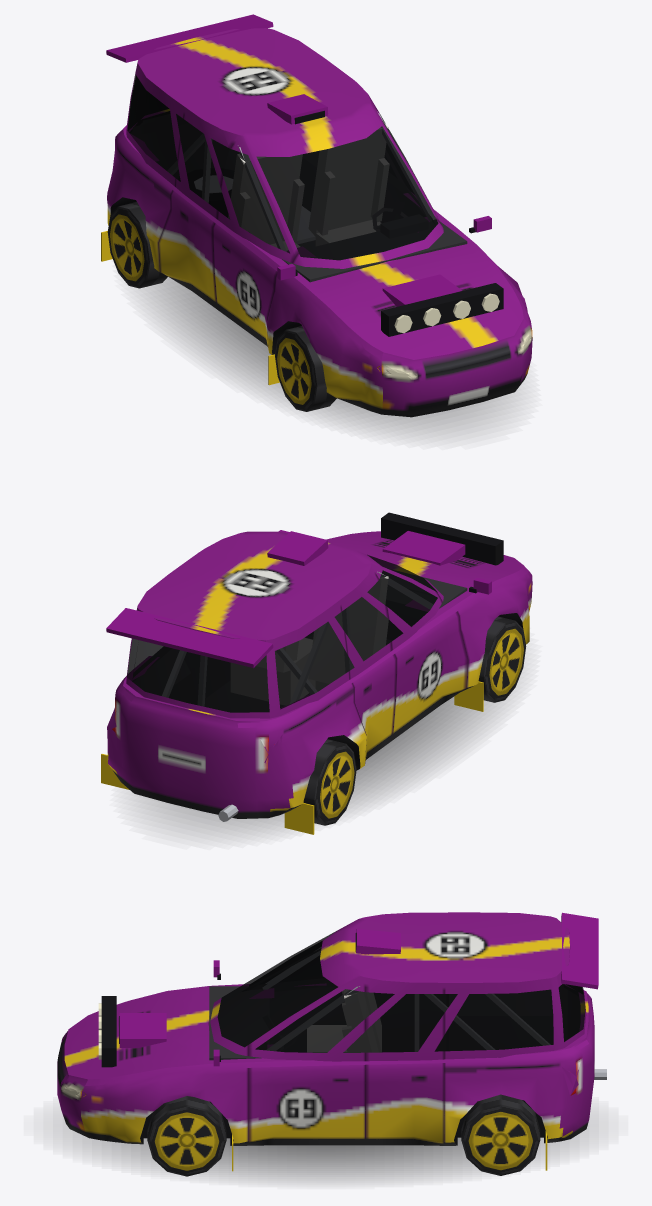
Rendered from rabanada.glb.
3 renders of one model, top to bottom at view 1: azimuth 30°, elevation 25°; view 2: azimuth 150°, elevation 25°; view 3: azimuth 270°, elevation 25°, orthographic. The views are drawn at different scales.
Parts seen in each view (by area): view 1: Carroceria, Interior, Capo_malha, Sombra, Porta_D_malha, Porta_TD_malha, Roda_DD, Roda_TD, Tampa_malha; view 2: Carroceria, Tampa_malha, Interior, Sombra, Porta_D_malha, Capo_malha, Porta_TD_malha, Roda_TD, Roda_DD; view 3: Carroceria, Interior, Porta_E_malha, Porta_TE_malha, Sombra, Capo_malha, Roda_TE, Roda_DE, Tampa_malha, Porta_D_malha.
Part boxes in pixels (bbox=[...]): Carroceria: bbox=[101, 28, 532, 417]; Interior: bbox=[131, 111, 467, 282]; Capo_malha: bbox=[318, 252, 528, 359]; Sombra: bbox=[143, 277, 513, 435]; Porta_D_malha: bbox=[212, 135, 295, 347]; Porta_TD_malha: bbox=[158, 107, 237, 300]; Roda_DD: bbox=[275, 326, 336, 411]; Roda_TD: bbox=[107, 202, 167, 288]; Tampa_malha: bbox=[106, 14, 273, 132]; Carroceria: bbox=[101, 530, 532, 834]; Tampa_malha: bbox=[106, 608, 273, 800]; Interior: bbox=[132, 570, 467, 711]; Sombra: bbox=[138, 697, 506, 835]; Porta_D_malha: bbox=[371, 564, 467, 732]; Capo_malha: bbox=[328, 512, 528, 584]; Porta_TD_malha: bbox=[340, 566, 396, 763]; Roda_TD: bbox=[303, 739, 356, 825]; Roda_DD: bbox=[478, 616, 526, 702]; Carroceria: bbox=[57, 912, 606, 1171]; Interior: bbox=[209, 948, 579, 1060]; Porta_E_malha: bbox=[248, 976, 365, 1141]; Porta_TE_malha: bbox=[366, 977, 443, 1142]; Sombra: bbox=[62, 1118, 589, 1181]; Capo_malha: bbox=[69, 990, 191, 1085]; Roda_TE: bbox=[461, 1094, 540, 1175]; Roda_DE: bbox=[147, 1096, 226, 1176]; Tampa_malha: bbox=[556, 912, 598, 1116]; Porta_D_malha: bbox=[249, 941, 323, 986].
Size of the model in its own units: 2.52 by 1.71 by 5.05.
14 materials, 5 textured.
